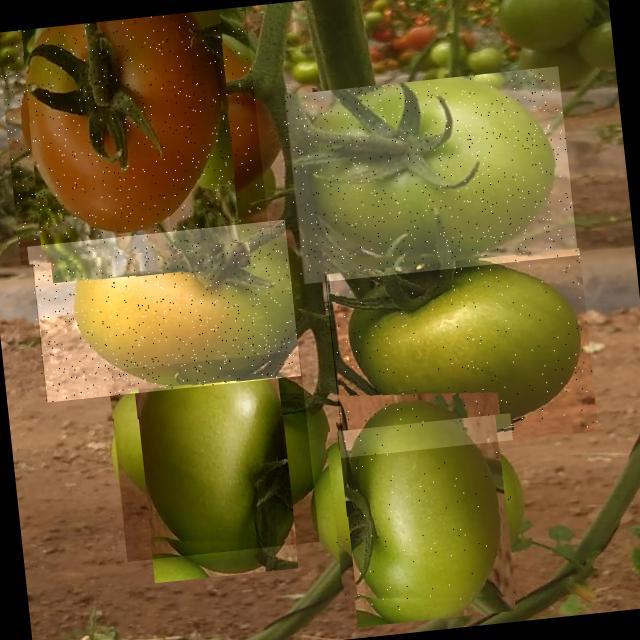Ripe Tomato: (0, 6, 269, 265)
Unripe Tomato: (281, 66, 577, 284), (322, 248, 598, 458), (27, 220, 300, 402), (107, 350, 319, 562), (324, 413, 527, 615)
